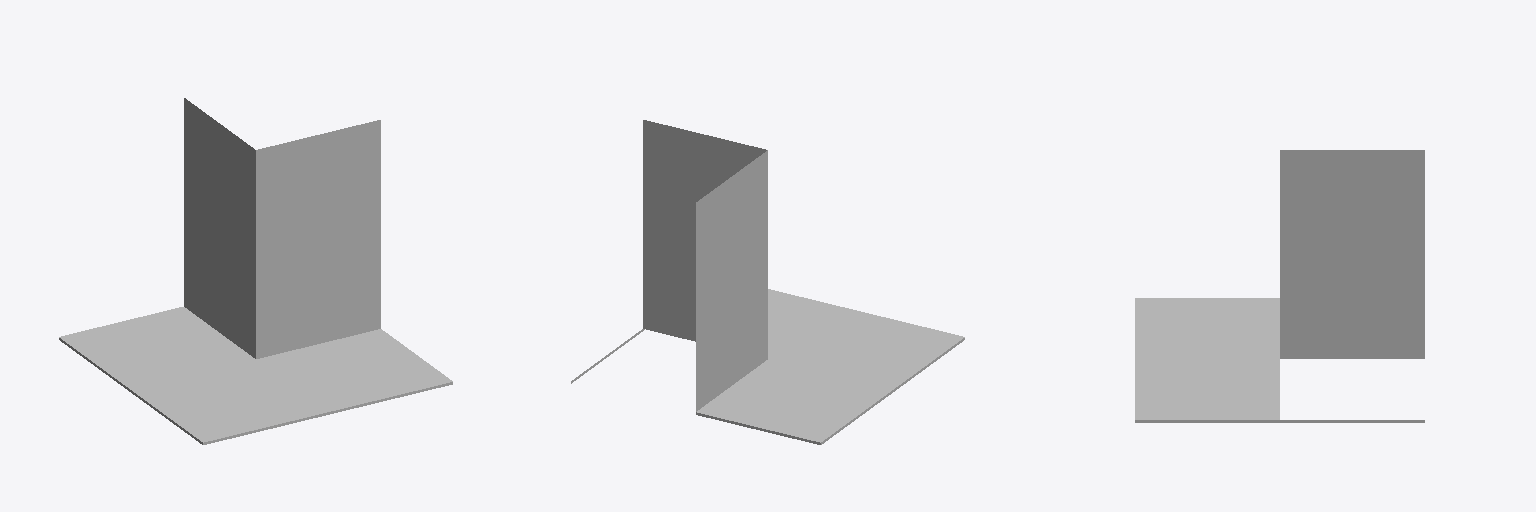
The model's file is 07_multi.obj.
The picture shows the model from 3 angles: view 1: azimuth 30°, elevation 25°; view 2: azimuth 150°, elevation 25°; view 3: azimuth 270°, elevation 25°; orthographic projection.
Parts seen in each view (by area): view 1: 07_multi_Plane.007; view 2: 07_multi_Plane.007; view 3: 07_multi_Plane.007.
Boxes of the visible parts, x1=… form: 07_multi_Plane.007: x1=59, y1=98, x2=452, y2=444; 07_multi_Plane.007: x1=571, y1=120, x2=964, y2=444; 07_multi_Plane.007: x1=1135, y1=150, x2=1424, y2=422.
Bounding box in the file's own units: 1.6 × 1.29 × 1.6.